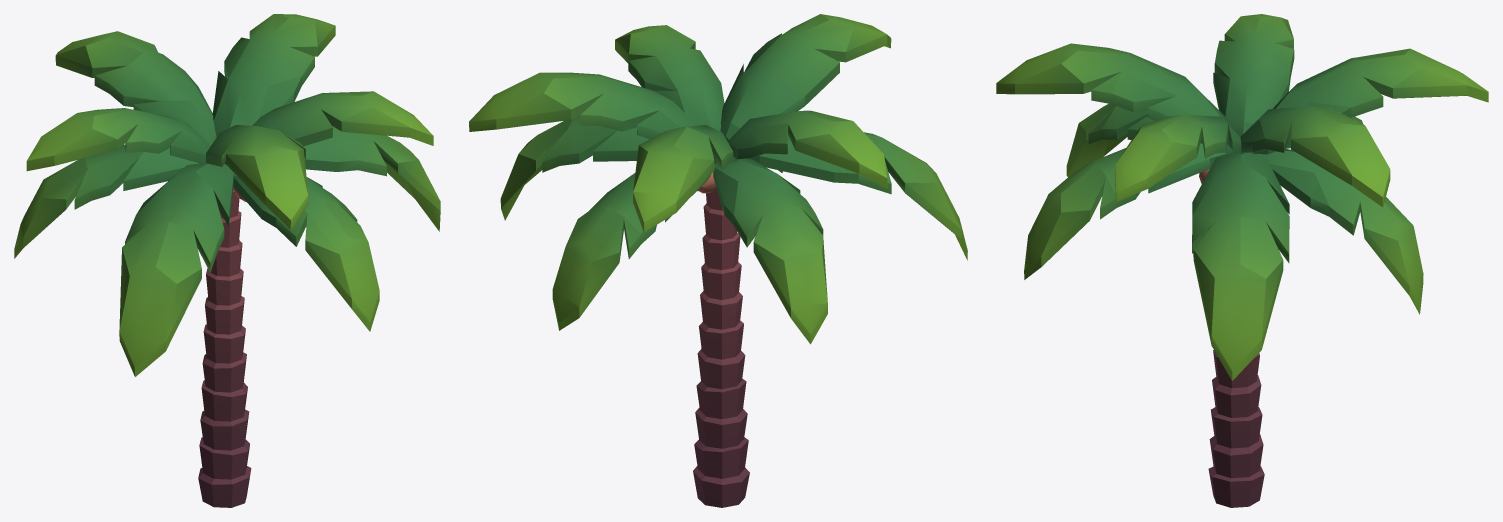
Rendered from tree_beach2.fbx.
The picture shows the model from 3 angles, left to right: view 1: azimuth 30°, elevation 25°; view 2: azimuth 150°, elevation 25°; view 3: azimuth 270°, elevation 25°; orthographic projection. The views are drawn at different scales.
Parts seen in each view (by area): view 1: model_0.006; view 2: model_0.006; view 3: model_0.006.
Boxes of the visible parts, x1=… form: model_0.006: x1=14, y1=14, x2=440, y2=507; model_0.006: x1=469, y1=14, x2=967, y2=507; model_0.006: x1=996, y1=14, x2=1488, y2=507.
Bounding box in the file's own units: 3215 × 3257 × 3358.
